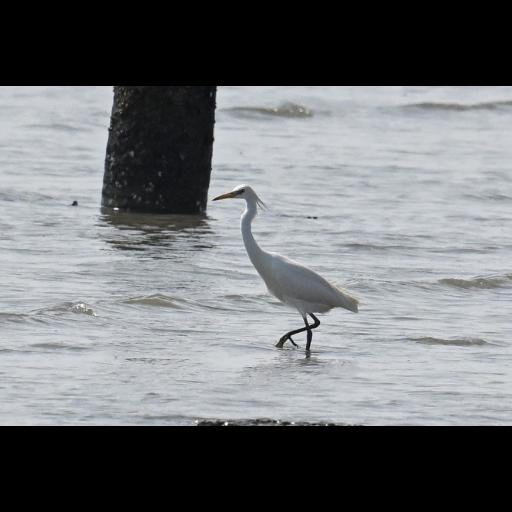chinese_egret: (212, 184, 360, 354)
